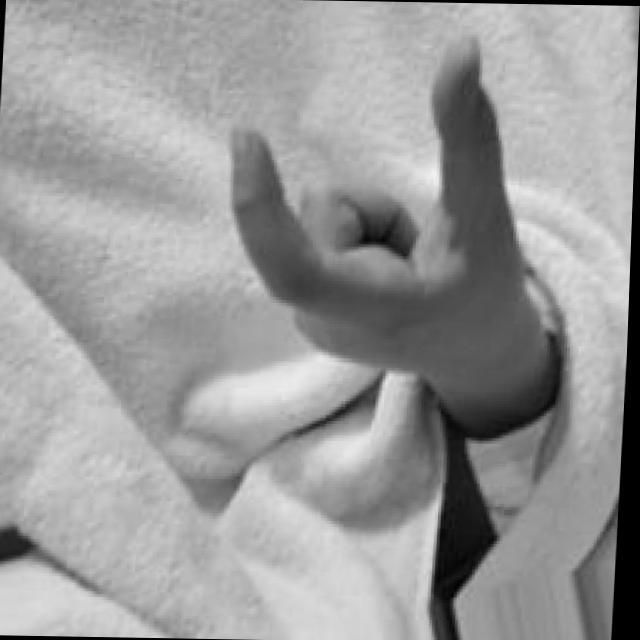U: (213, 24, 579, 404)
